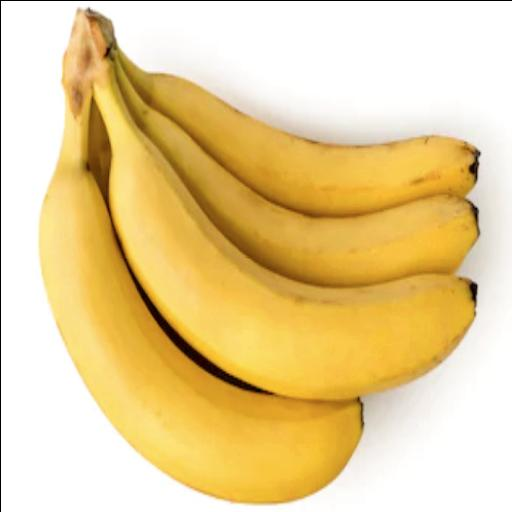banana: (40, 83, 362, 502), (94, 54, 476, 399), (116, 59, 479, 286), (119, 49, 479, 216), (86, 100, 110, 202)
